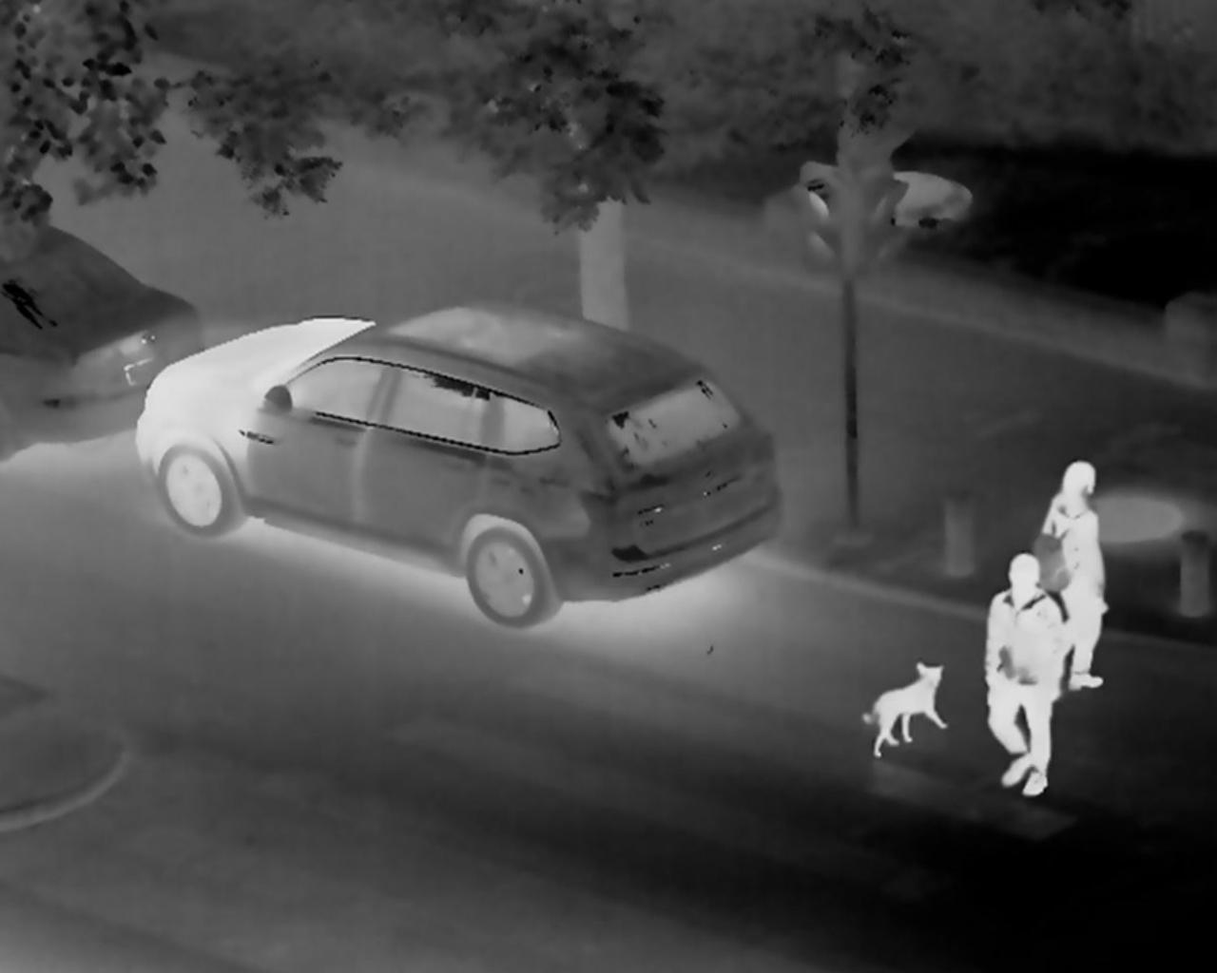person: (979, 550, 1067, 802), (1027, 459, 1110, 692)
